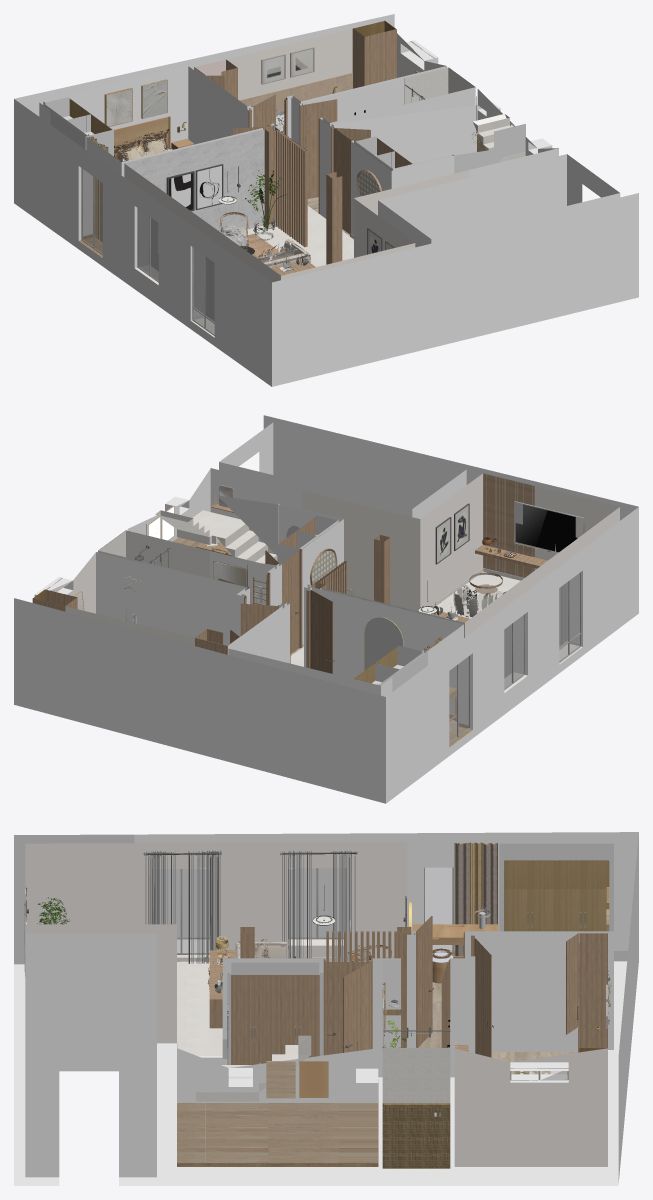
The model's file is burgos-floor-0.glb.
3 views of the same model, one above another, from view 1: azimuth 30°, elevation 25°; view 2: azimuth 150°, elevation 25°; view 3: azimuth 270°, elevation 25° (orthographic). The views are drawn at different scales.
Visible parts, largest first — view 1: 3DGeom-3, 3DGeom-12435, 3DGeom-13465, 3DGeom-13468, 3DGeom-12122, 3DGeom-1, 3DGeom-13391, 3DGeom-3964, 3DGeom-13202, 3DGeom-13385, 3DGeom-113.001, 3DGeom-81.002 (+11 smaller); view 2: 3DGeom-3, 3DGeom-13465, 3DGeom-12435, 3DGeom-3964, 3DGeom-12122, 3DGeom-1, 3DGeom-13202, 3DGeom-12147, 3DGeom-13391, 3DGeom-94.001, 3DGeom-12431, 3DGeom-81.002 (+2 smaller); view 3: 3DGeom-3, 3DGeom-13465, 3DGeom-12435, 3DGeom-2126, 3DGeom-12122, 3DGeom-1882, 3DGeom-13018, 3DGeom-1, 3DGeom-3964, 3DGeom-13270, 3DGeom-13202, 3DGeom-48.028 (+8 smaller).
Boxes of the visible parts, box(x1,y1,x2,y2) form: 3DGeom-3: box(14, 14, 638, 386); 3DGeom-12435: box(194, 28, 412, 275); 3DGeom-13465: box(124, 21, 469, 284); 3DGeom-13468: box(124, 129, 264, 247); 3DGeom-12122: box(82, 169, 214, 333); 3DGeom-1: box(42, 97, 525, 173); 3DGeom-13391: box(300, 67, 475, 170); 3DGeom-3964: box(158, 114, 525, 337); 3DGeom-13202: box(395, 67, 474, 106); 3DGeom-13385: box(239, 73, 352, 111); 3DGeom-113.001: box(114, 116, 194, 159); 3DGeom-81.002: box(81, 41, 434, 335); 3DGeom-3: box(14, 415, 638, 803); 3DGeom-13465: box(50, 473, 619, 692); 3DGeom-12435: box(33, 473, 547, 673); 3DGeom-3964: box(155, 510, 582, 666); 3DGeom-12122: box(449, 573, 579, 742); 3DGeom-1: box(207, 495, 514, 691); 3DGeom-13202: box(98, 530, 209, 577); 3DGeom-12147: box(514, 501, 584, 553); 3DGeom-13391: box(143, 505, 338, 605); 3DGeom-94.001: box(364, 617, 402, 670); 3DGeom-12431: box(75, 550, 335, 610); 3DGeom-81.002: box(46, 572, 581, 744); 3DGeom-3: box(14, 832, 638, 1185); 3DGeom-13465: box(25, 842, 607, 1166); 3DGeom-12435: box(25, 894, 607, 1064); 3DGeom-2126: box(177, 1061, 378, 1162); 3DGeom-12122: box(153, 867, 567, 1080); 3DGeom-1882: box(145, 855, 355, 958); 3DGeom-13018: box(504, 860, 609, 931); 3DGeom-1: box(14, 834, 627, 1064); 3DGeom-3964: box(177, 954, 394, 1101); 3DGeom-13270: box(382, 1103, 450, 1168); 3DGeom-13202: box(382, 999, 450, 1103); 3DGeom-48.028: box(455, 844, 497, 956).
Bounding box in the file's own units: 9.29 × 2.51 × 10.92.
277 materials, 199 textured.
